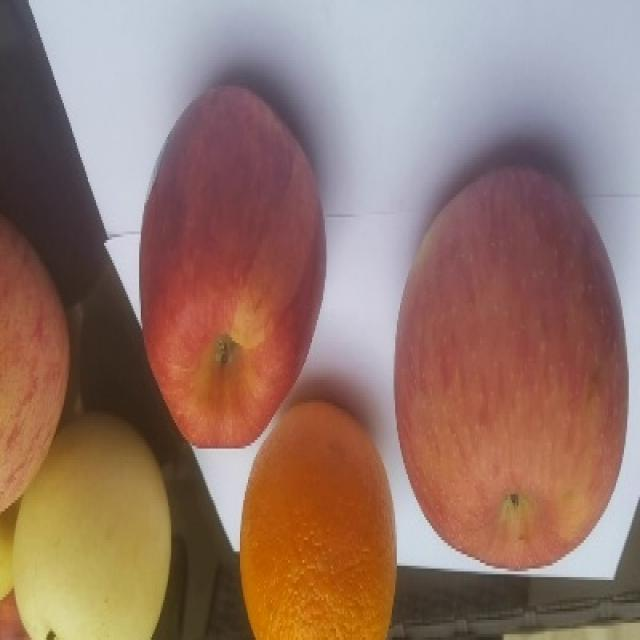Apple: (394, 158, 626, 572), (133, 86, 327, 448), (0, 211, 70, 511)
Orange: (242, 403, 404, 640)
